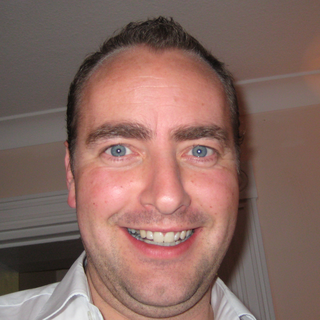eye: (177, 140, 223, 165), (96, 140, 143, 164)
